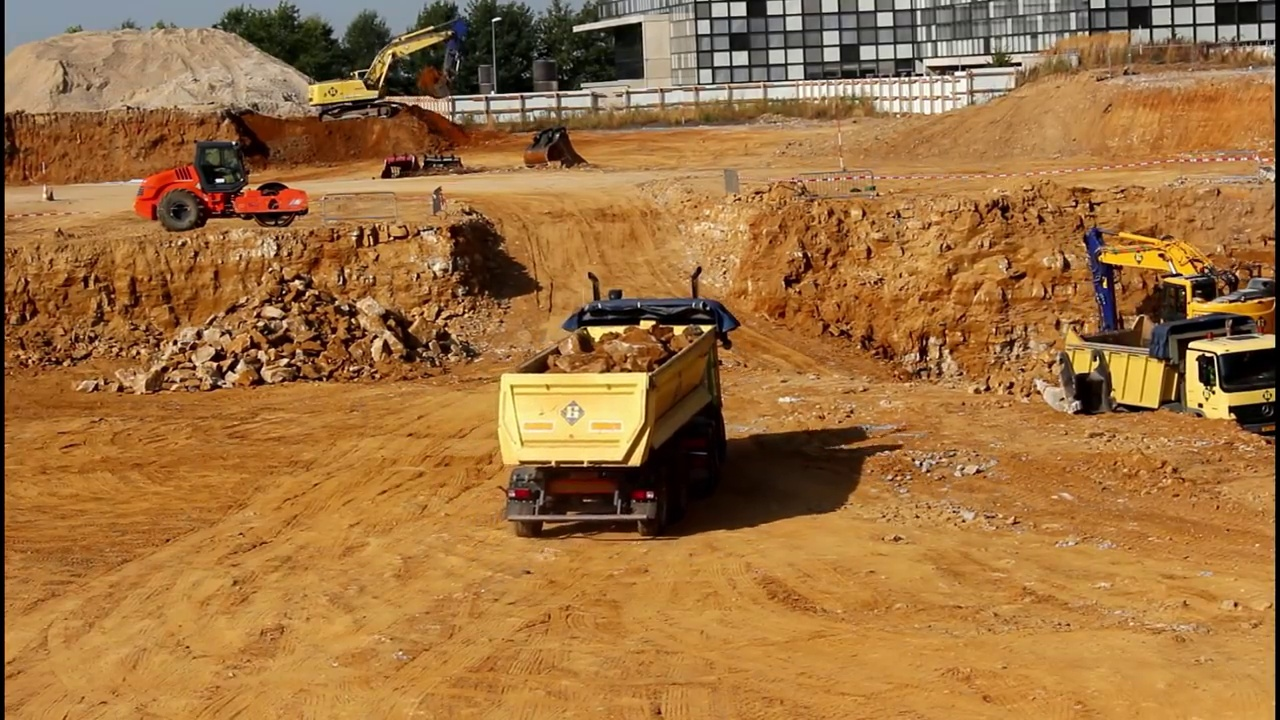compactor: (133, 141, 312, 231)
excavator: (1067, 220, 1280, 386), (303, 17, 468, 128)
truck: (495, 261, 741, 543), (1057, 309, 1280, 445)
